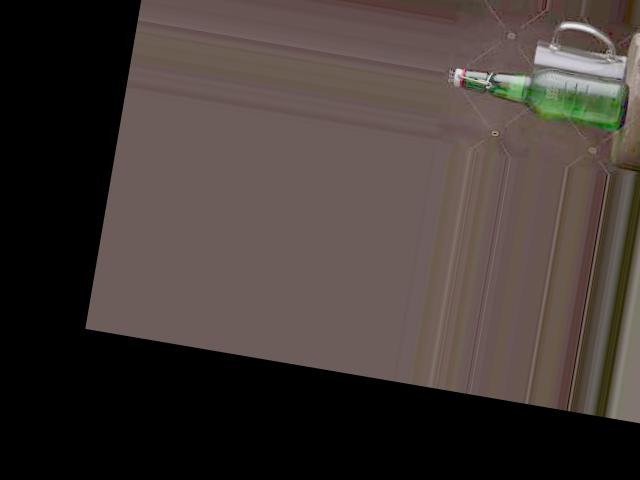beer: (450, 54, 630, 130)
